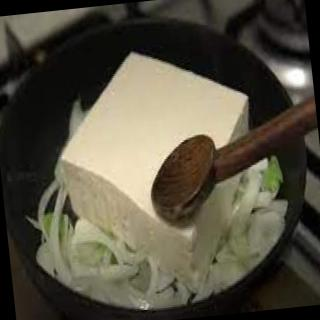Tahu: (27, 33, 281, 282)
